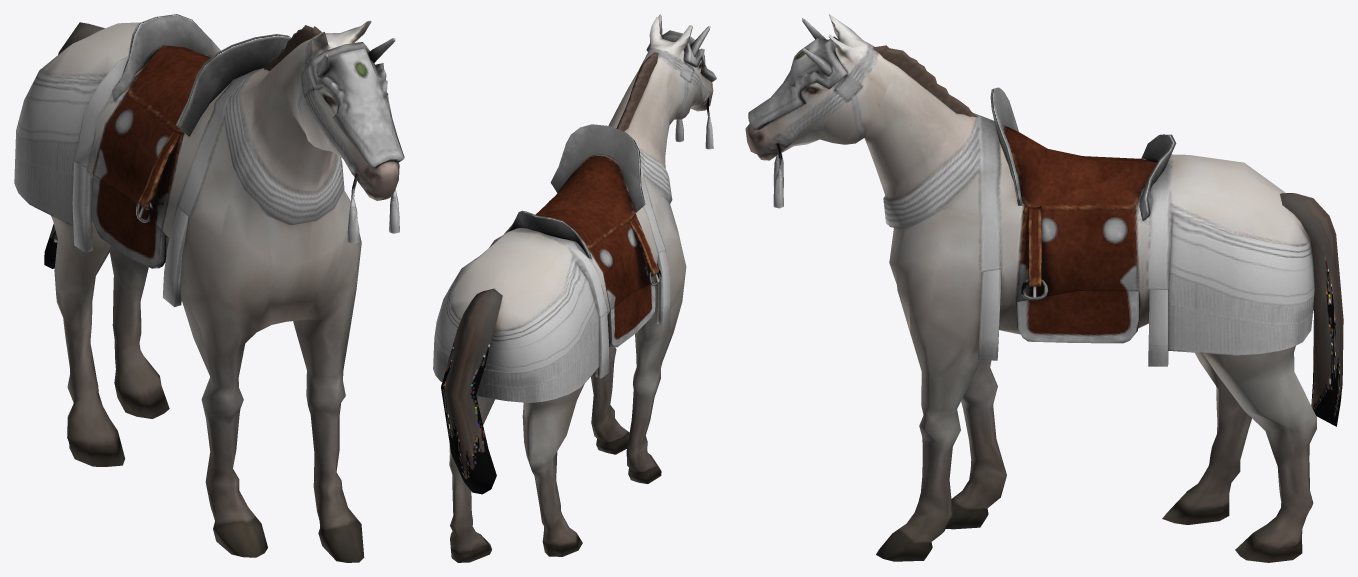
The model's file is body-mediumstablesoldiers.glb.
3 renders of one model, left to right at view 1: azimuth 30°, elevation 25°; view 2: azimuth 150°, elevation 25°; view 3: azimuth 270°, elevation 25°, orthographic. The views are drawn at different scales.
Size of the model in its own units: 0.8745 by 2.5 by 2.64.
1 material, 1 textured.
